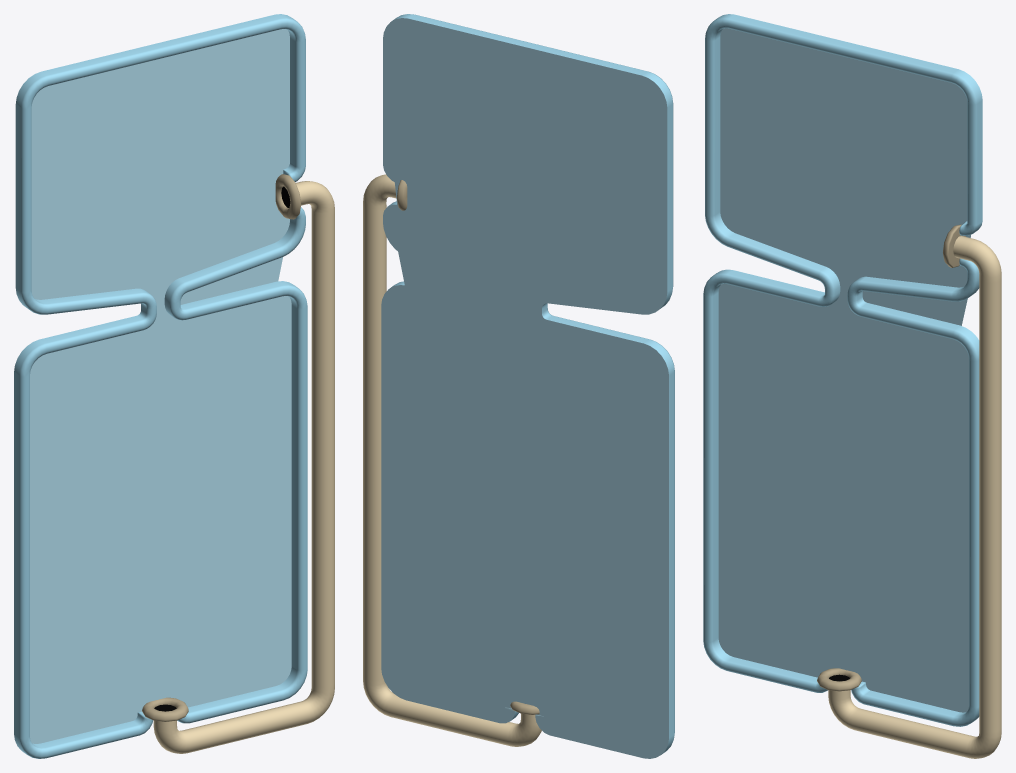
Rendered from sceneGame.fbx.
3 renders of one model, left to right at view 1: azimuth 30°, elevation 25°; view 2: azimuth 150°, elevation 25°; view 3: azimuth 330°, elevation 25°, orthographic. The views are drawn at different scales.
Visible parts, largest first — view 1: mainPlatform, pipe; view 2: mainPlatform, pipe; view 3: mainPlatform, pipe.
Boxes of the visible parts, x1,y1,x2,y2 form: mainPlatform: (14, 14, 307, 758); pipe: (142, 174, 334, 753); mainPlatform: (381, 14, 674, 758); pipe: (363, 174, 541, 746); mainPlatform: (703, 14, 982, 726); pipe: (817, 224, 1001, 758).
Bounding box in the file's own units: 6.16 × 13.37 × 0.7975.
